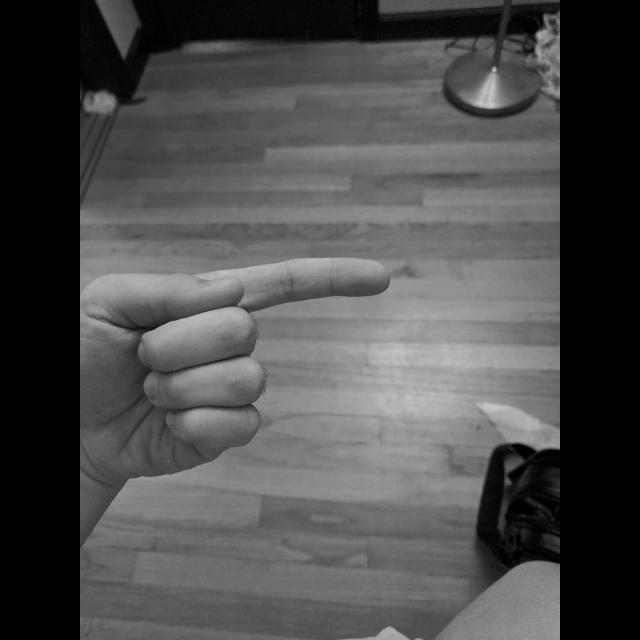G: (80, 253, 400, 484)
